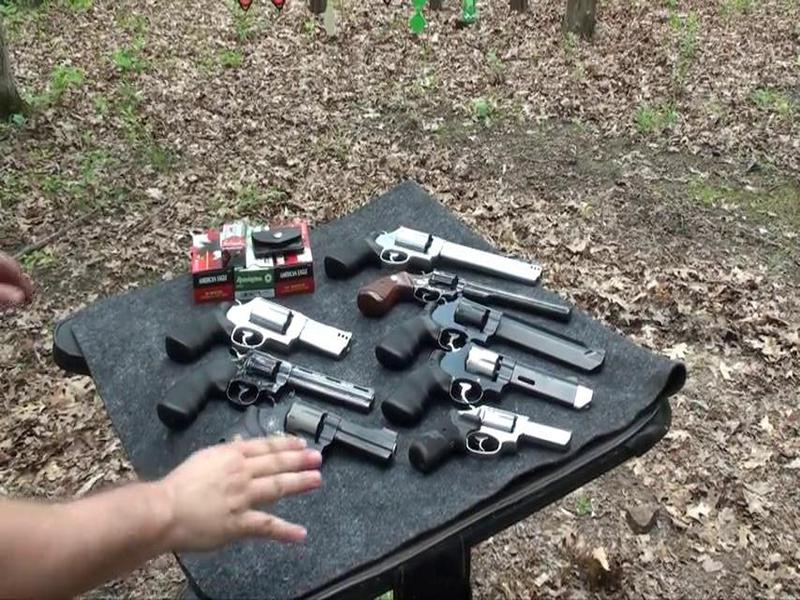Revolver: (327, 224, 568, 305), (395, 397, 588, 494), (154, 291, 357, 370)
